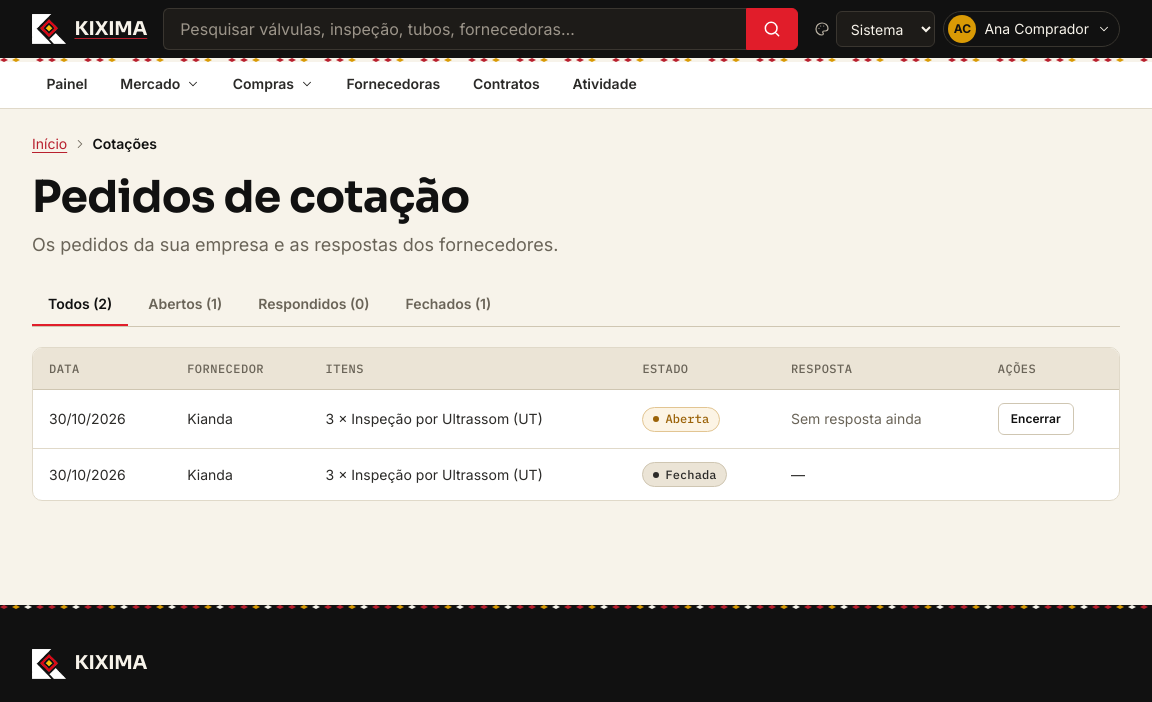
Scenario: cotações › abas filtram por estado com contagem; sem pedidos mostra como começar
Check: the tab "Todos (2)" is shown, box [32, 283, 128, 327]
Check: the tab "Abertos (1)" is shown, box [132, 283, 238, 327]
Click the tab "Respondidos (0)": (314, 305) [242, 283, 386, 327]
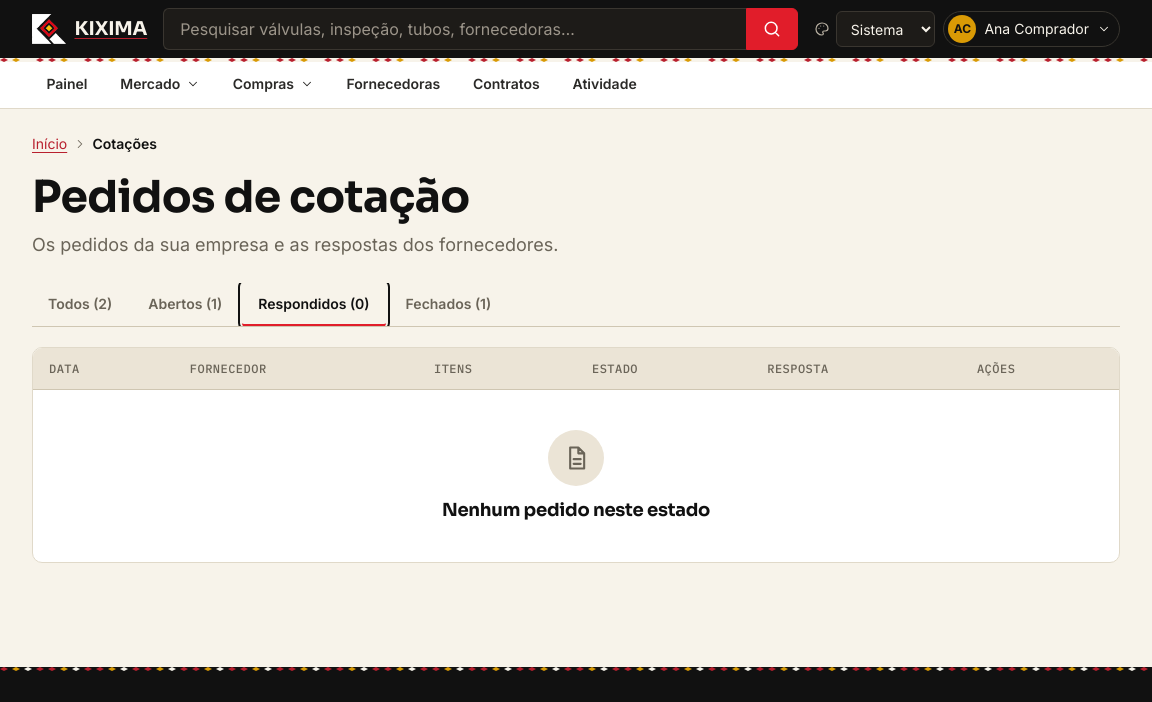
Check: the heading "Nenhum pedido neste estado" is shown, box [442, 500, 710, 522]
